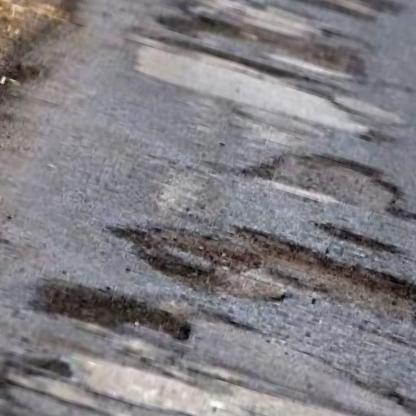pothole: (95, 182, 416, 360), (152, 0, 376, 93), (236, 123, 416, 238), (20, 265, 200, 362), (177, 0, 410, 35), (309, 214, 408, 261)
